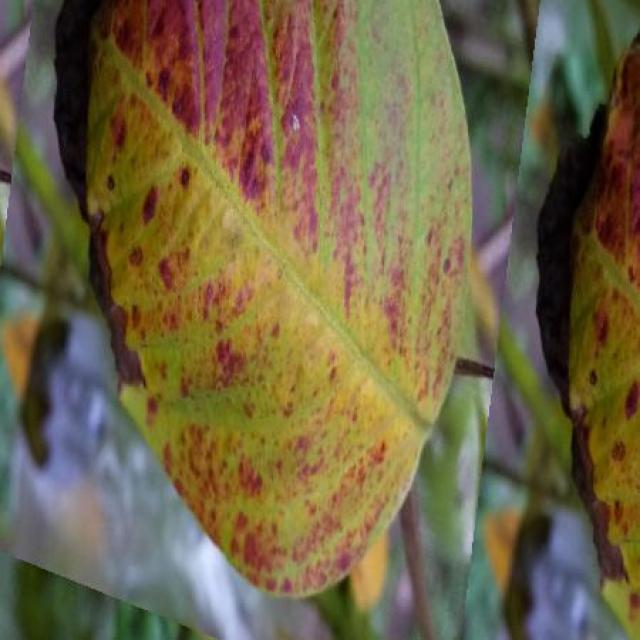Red Rust: (60, 0, 470, 594), (536, 34, 640, 602)
